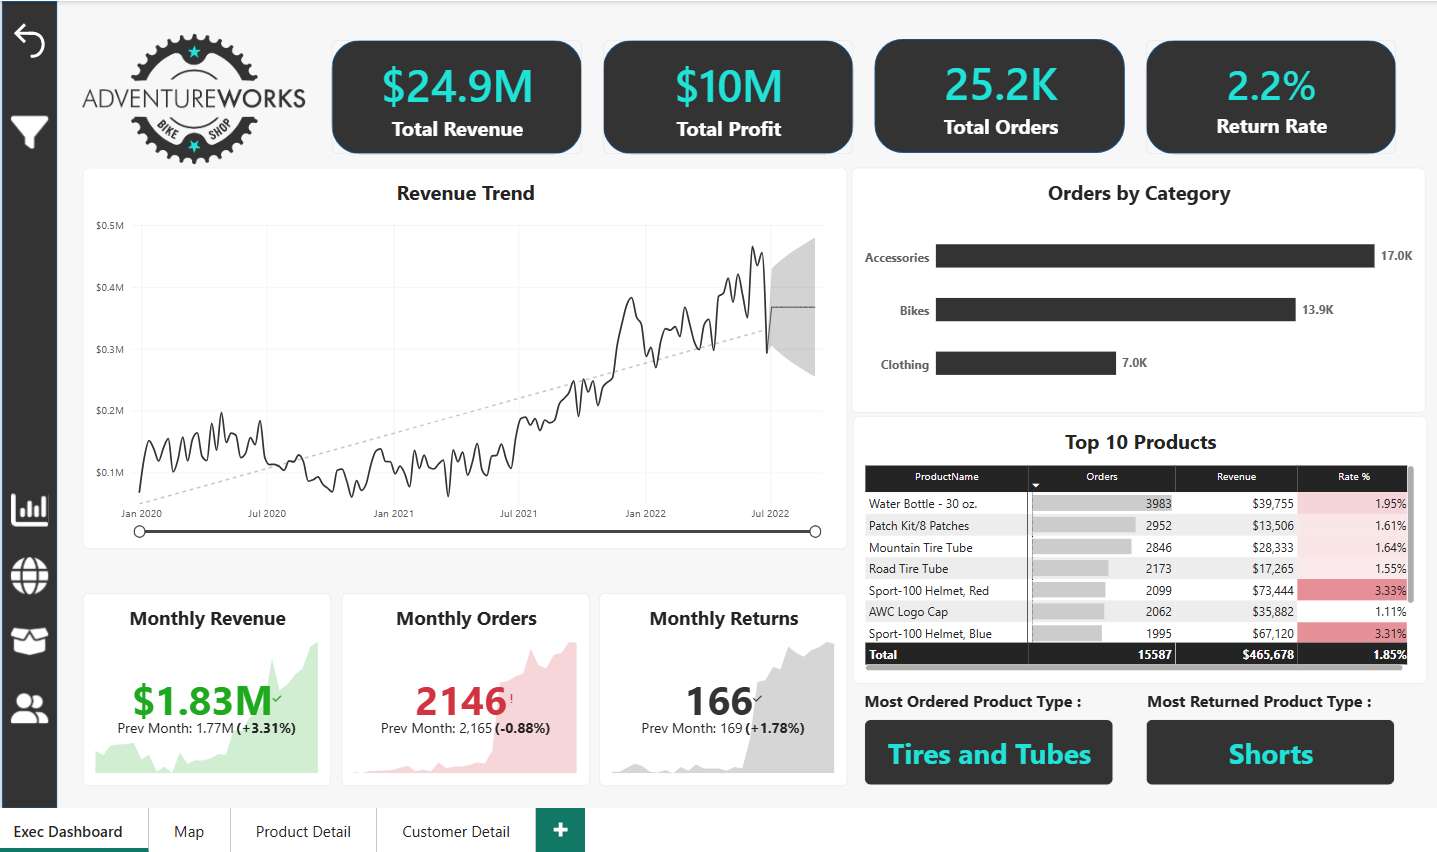

Layout of this report page (visuals, bound fields, positions):
{"tool":"powerbi","page":{"name":"Exec Dashboard ","canvas":[1920,1080],"ordinal":0},"visuals":[{"type":"image","title":"AW logo","box":[75,0,366,262],"z":0},{"type":"group","id":"g1","title":"KPI shape","box":[440,50,1425,155],"z":0,"group":"g3"},{"type":"shape","box":[1166.7,50,335,152.5],"z":0,"group":"g1"},{"type":"cardVisual","fields":{"Data":[" Measures_Table.Total Revenue"]},"box":[440,52.5,335,152.5],"z":0,"group":"g2"},{"type":"actionButton","box":[0,641.3,74.5,78.3],"z":0,"group":"g4"},{"type":"shape","title":"Left Nav Pannel","box":[0,0,74,1080],"z":1000},{"type":"group","id":"g2","title":"KPI card","box":[440,50,1425,155],"z":1000,"group":"g3"},{"type":"shape","box":[1530,52.5,335,152.5],"z":1000,"group":"g1"},{"type":"cardVisual","fields":{"Data":[" Measures_Table.Return Rate"]},"box":[1530,52.5,335,152.5],"z":1000,"group":"g2"},{"type":"actionButton","box":[0,817.5,74.5,78.3],"z":1000,"group":"g4"},{"type":"shape","box":[802.5,52.5,335,152.5],"z":2000,"group":"g1"},{"type":"cardVisual","fields":{"Data":[" Measures_Table.Total Profit"]},"box":[802.5,52.5,335,152.5],"z":2000,"group":"g2"},{"type":"lineChart","title":"Revenue Trend","fields":{"Category":["Calendar Lookup.Start of year","Calendar Lookup.Start of month","Calendar Lookup.Start of week"],"Y":[" Measures_Table.Total Revenue"]},"box":[107.8,222.2,1022.9,510.3],"z":2000},{"type":"actionButton","box":[0,729.4,74.5,78.3],"z":2000,"group":"g4"},{"type":"cardVisual","fields":{"Data":[" Measures_Table.Total Orders"]},"box":[1167.5,50,335,152.5],"z":3000,"group":"g2"},{"type":"shape","box":[440,52.5,335,152.5],"z":3000,"group":"g1"},{"type":"kpi","title":"Monthly Revenue","fields":{"Goal":[" Measures_Table.Previous Month Revenue"],"Indicator":[" Measures_Table.Total Revenue"],"TrendLine":["Calendar Lookup.Start of month"]},"box":[108,792,332,258],"z":3000},{"type":"actionButton","box":[0,905.6,74.5,78.3],"z":3000,"group":"g4"},{"type":"kpi","title":"Monthly Orders","fields":{"Goal":[" Measures_Table.Previous Month Orders"],"Indicator":[" Measures_Table.Total Orders"],"TrendLine":["Calendar Lookup.Start of month"]},"box":[454,792,332,258],"z":4000},{"type":"kpi","title":"Monthly Returns","fields":{"Goal":[" Measures_Table.Previous Month Returns"],"Indicator":[" Measures_Table.Total Returns"],"TrendLine":["Calendar Lookup.Start of month"]},"box":[798,792,332,258],"z":5000},{"type":"barChart","title":"Orders by Category","fields":{"Category":["Product Categories Lookup.CategoryName"],"Y":[" Measures_Table.Total Orders"]},"box":[1137.2,222.2,767.7,327.8],"z":6000},{"type":"group","id":"g3","title":"KPI","box":[440,50,1425,155],"z":7000},{"type":"pivotTable","title":"Top 10 Products","fields":{"Rows":["Product Categories Lookup.CategoryName","Product Lookup.ProductName"],"Values":[" Measures_Table.Total Orders"," Measures_Table.Total Revenue"," Measures_Table.Return Rate"]},"box":[1138,556,768,358],"z":8000},{"type":"cardVisual","fields":{"Data":["Min(product Subcategories Lookup.SubcategoryName)"]},"box":[1153.3,961.7,333.3,88.3],"z":9000},{"type":"textbox","box":[1152.6,921.7,334.4,39.6],"z":10000},{"type":"cardVisual","fields":{"Data":["Min(product Subcategories Lookup.SubcategoryName)"]},"box":[1530,961.7,333.3,88.3],"z":11000},{"type":"textbox","box":[1531,921.7,334.4,39.6],"z":12000},{"type":"actionButton","box":[0,0,74.5,106.2],"z":13000},{"type":"group","id":"g4","title":"Page Navigations","box":[0,641.3,74.5,342.6],"z":14000},{"type":"actionButton","box":[0,130.4,74.5,91.3],"z":15500}]}

Visuals, with their boxes on the page's 1920x1080 design canvas (x1, y1, x2, y2). These are canvas units, not pixel positions in the 1437x852 screenshot, which may show the page scaled, cropped or inside an application window:
"AW logo" image: (left=75, top=0, right=441, bottom=262)
"KPI shape" group: (left=440, top=50, right=1865, bottom=205)
shape: (left=1167, top=50, right=1502, bottom=202)
cardVisual -  Measures_Table.Total Revenue: (left=440, top=52, right=775, bottom=205)
actionButton: (left=0, top=641, right=74, bottom=720)
"Left Nav Pannel" shape: (left=0, top=0, right=74, bottom=1080)
"KPI card" group: (left=440, top=50, right=1865, bottom=205)
shape: (left=1530, top=52, right=1865, bottom=205)
cardVisual -  Measures_Table.Return Rate: (left=1530, top=52, right=1865, bottom=205)
actionButton: (left=0, top=818, right=74, bottom=896)
shape: (left=802, top=52, right=1138, bottom=205)
cardVisual -  Measures_Table.Total Profit: (left=802, top=52, right=1138, bottom=205)
"Revenue Trend" lineChart: (left=108, top=222, right=1131, bottom=732)
actionButton: (left=0, top=729, right=74, bottom=808)
cardVisual -  Measures_Table.Total Orders: (left=1168, top=50, right=1502, bottom=202)
shape: (left=440, top=52, right=775, bottom=205)
"Monthly Revenue" kpi: (left=108, top=792, right=440, bottom=1050)
actionButton: (left=0, top=906, right=74, bottom=984)
"Monthly Orders" kpi: (left=454, top=792, right=786, bottom=1050)
"Monthly Returns" kpi: (left=798, top=792, right=1130, bottom=1050)
"Orders by Category" barChart: (left=1137, top=222, right=1905, bottom=550)
"KPI" group: (left=440, top=50, right=1865, bottom=205)
"Top 10 Products" pivotTable: (left=1138, top=556, right=1906, bottom=914)
cardVisual - Min(product Subcategories Lookup.SubcategoryName): (left=1153, top=962, right=1487, bottom=1050)
textbox: (left=1153, top=922, right=1487, bottom=961)
cardVisual - Min(product Subcategories Lookup.SubcategoryName): (left=1530, top=962, right=1863, bottom=1050)
textbox: (left=1531, top=922, right=1865, bottom=961)
actionButton: (left=0, top=0, right=74, bottom=106)
"Page Navigations" group: (left=0, top=641, right=74, bottom=984)
actionButton: (left=0, top=130, right=74, bottom=222)
